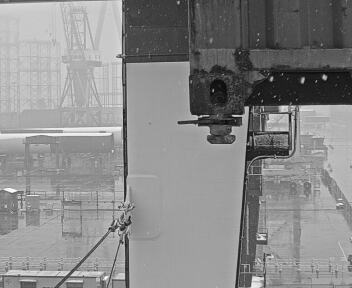twist_lock_1: (188, 110, 244, 155)
